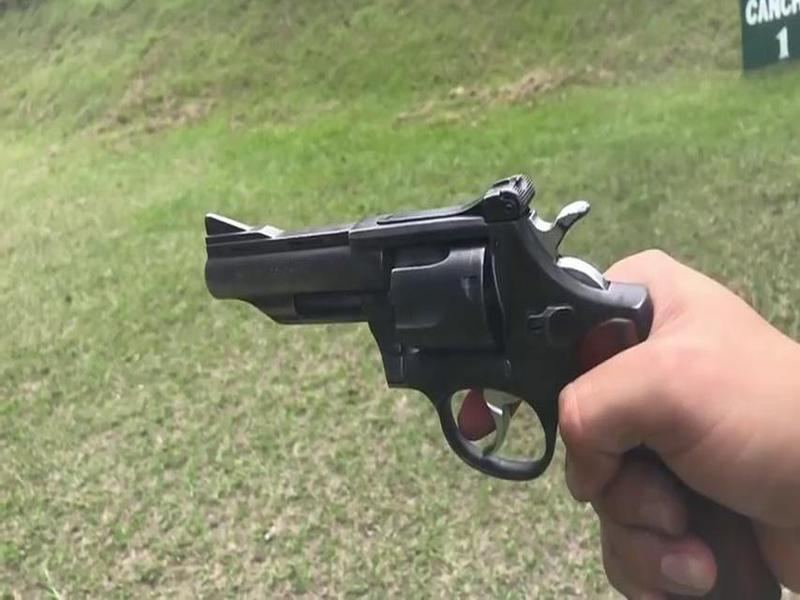Revolver: (181, 166, 658, 495)
